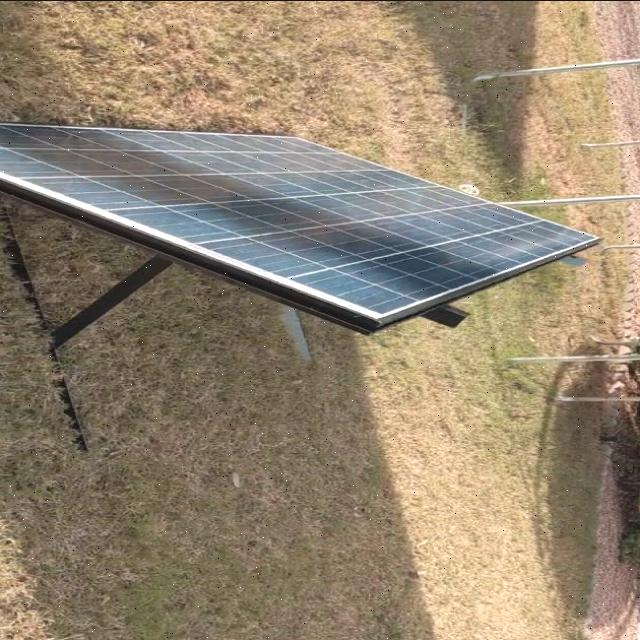Normal Solar Panel: (0, 123, 606, 320)
